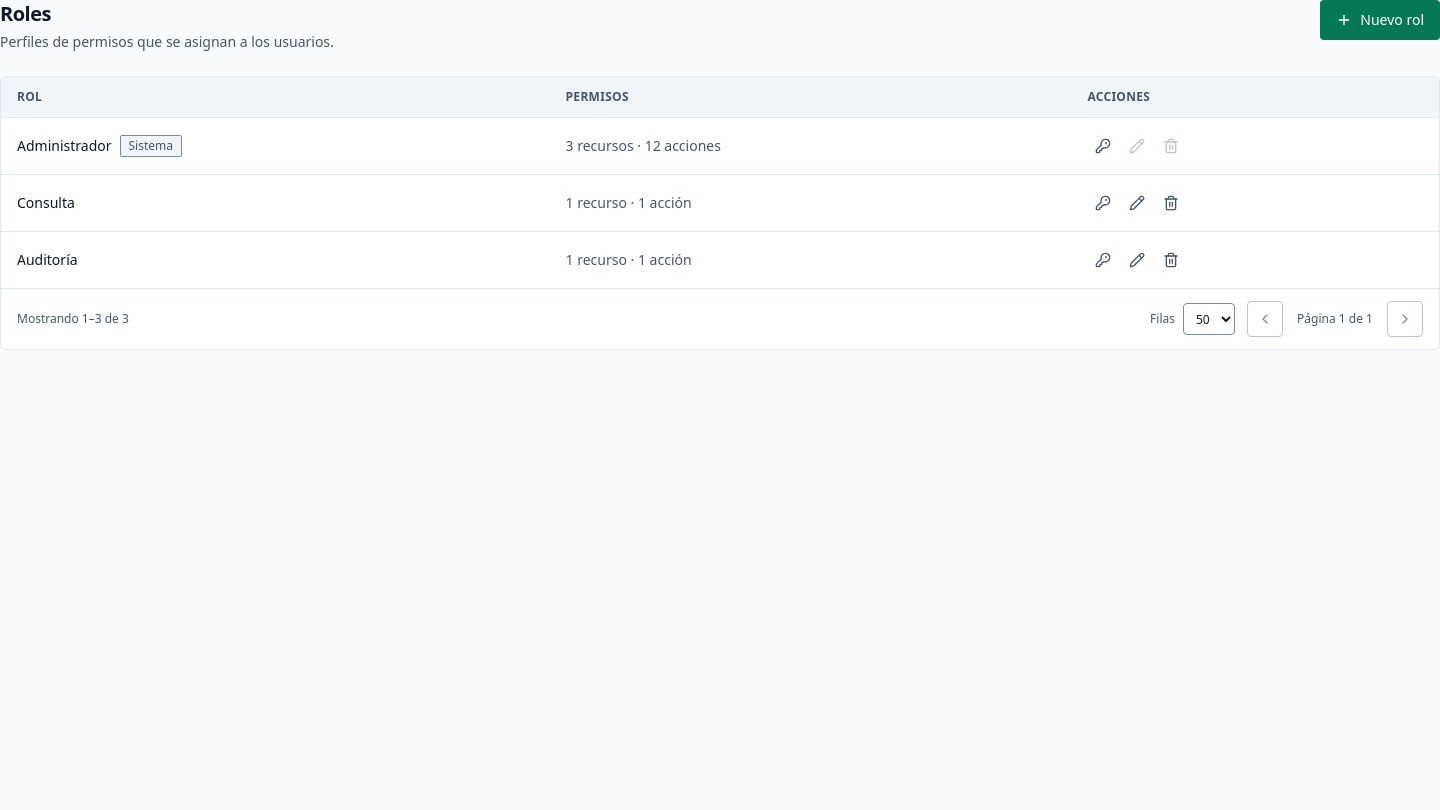
RolesPage › guarda los permisos y los conserva al volver a abrir el editor
Expected: the cell "Consulta" is shown, x1=1 y1=174 x2=550 y2=232
Step 1. Click the button named "Ver permisos de Consulta" → point(1103, 203), box x1=1087 y1=187 x2=1119 y2=219
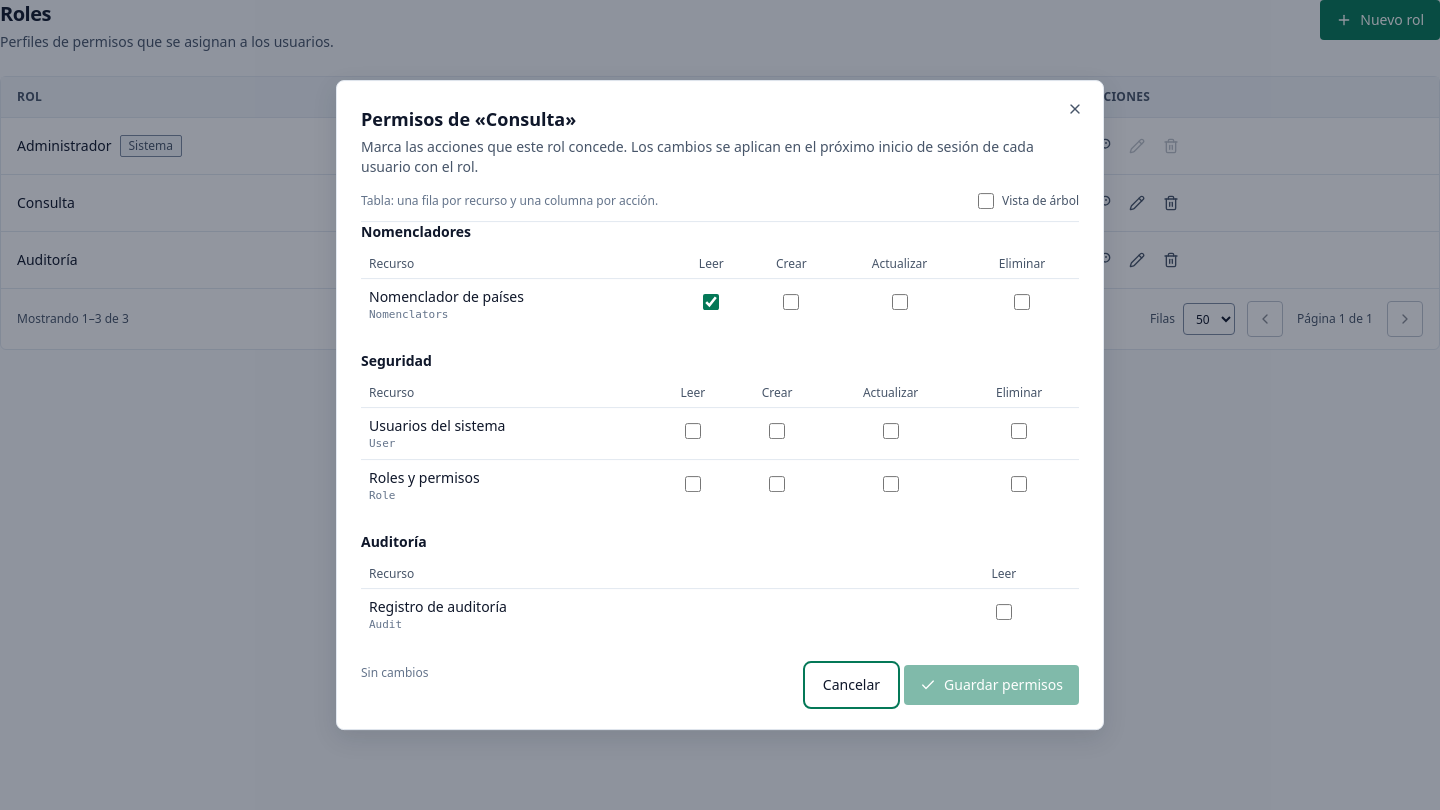
Step 2. Click the checkbox named "Crear en Nomenclador de países" → point(791, 302), box x1=783 y1=294 x2=799 y2=310
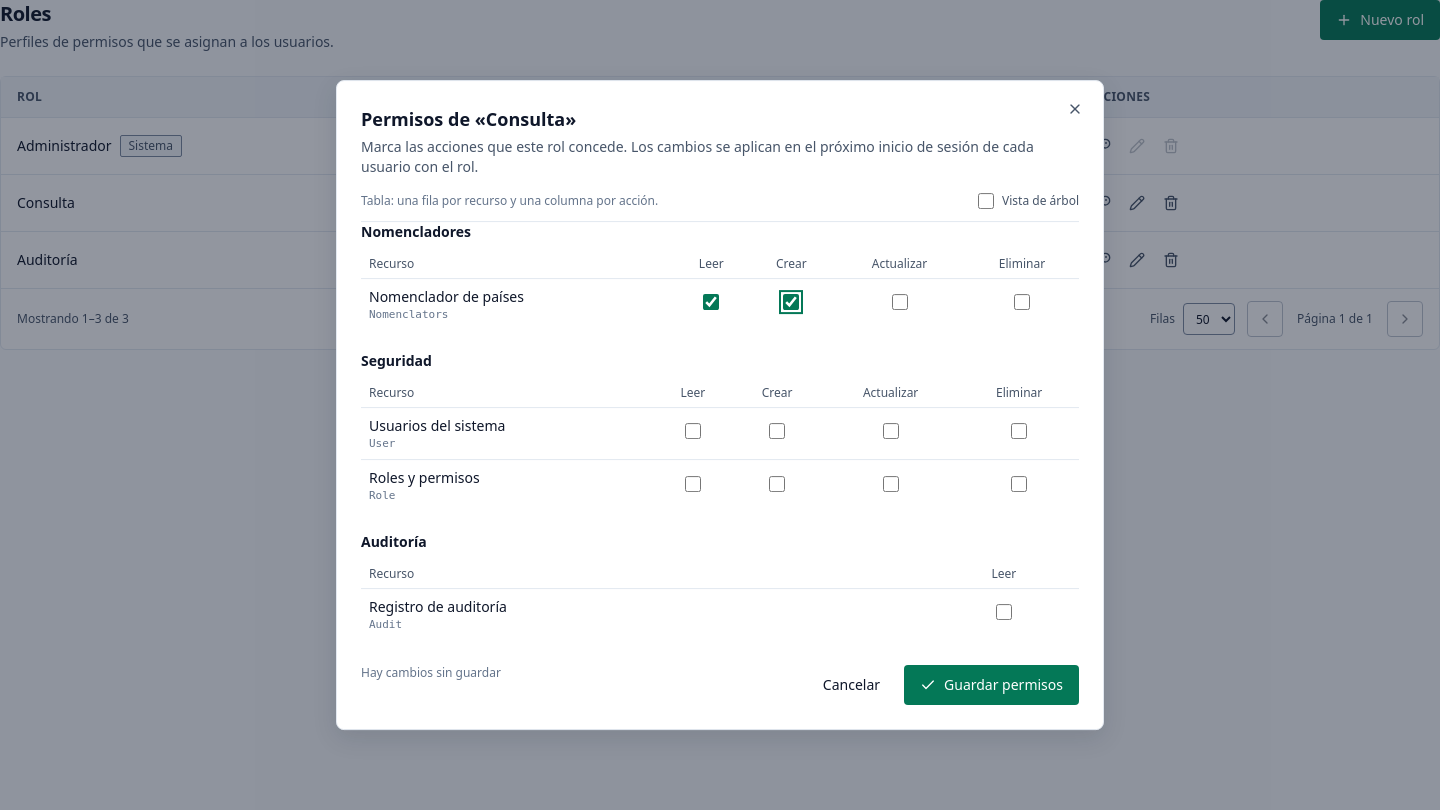
Step 3. Click the button "Guardar permisos" → point(992, 685), box x1=904 y1=665 x2=1079 y2=705
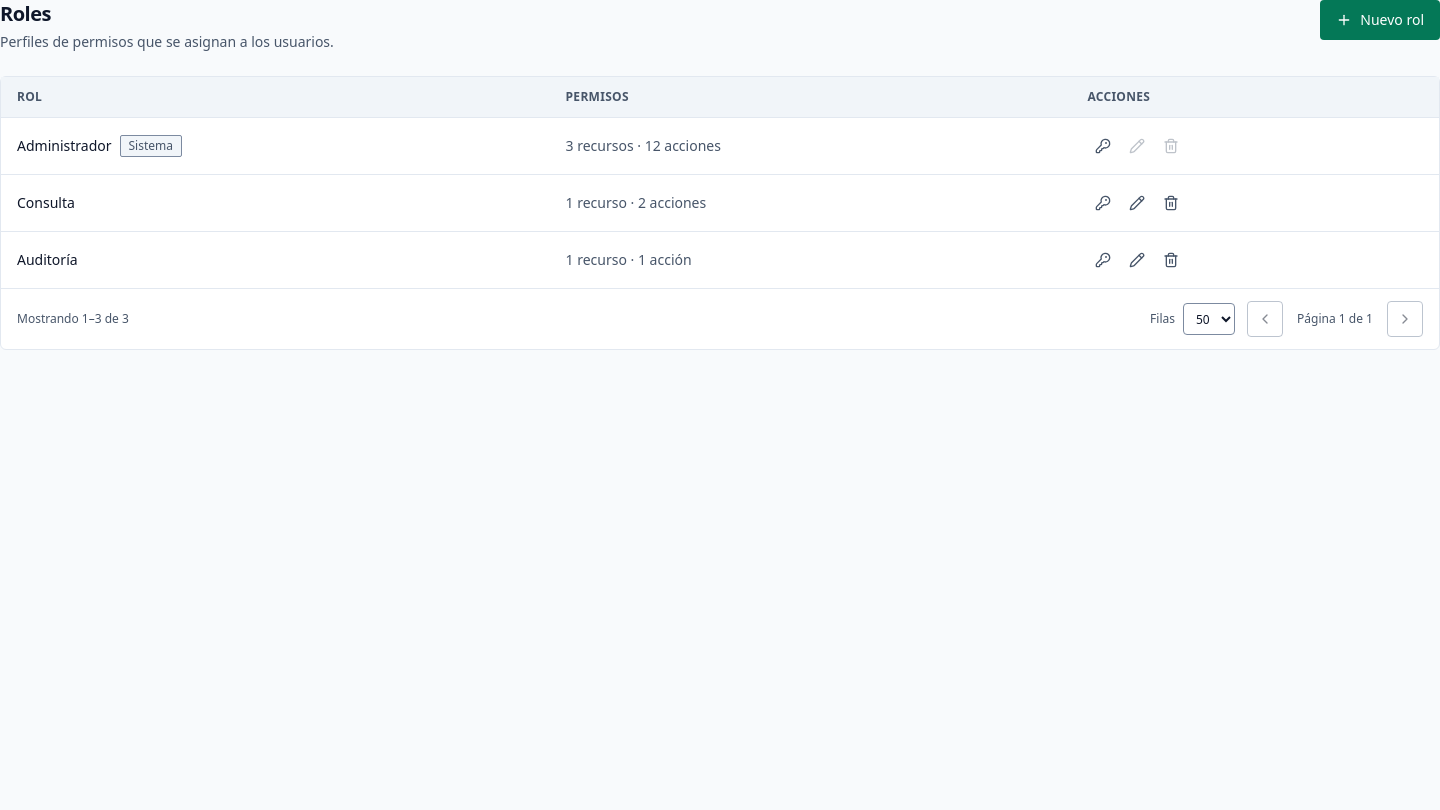
Now the dialog is gone
// Ida y vuelta real: se relee del servidor, no del estado local.
Step 4. Click the button named "Ver permisos de Consulta" → point(1103, 203), box x1=1087 y1=187 x2=1119 y2=219
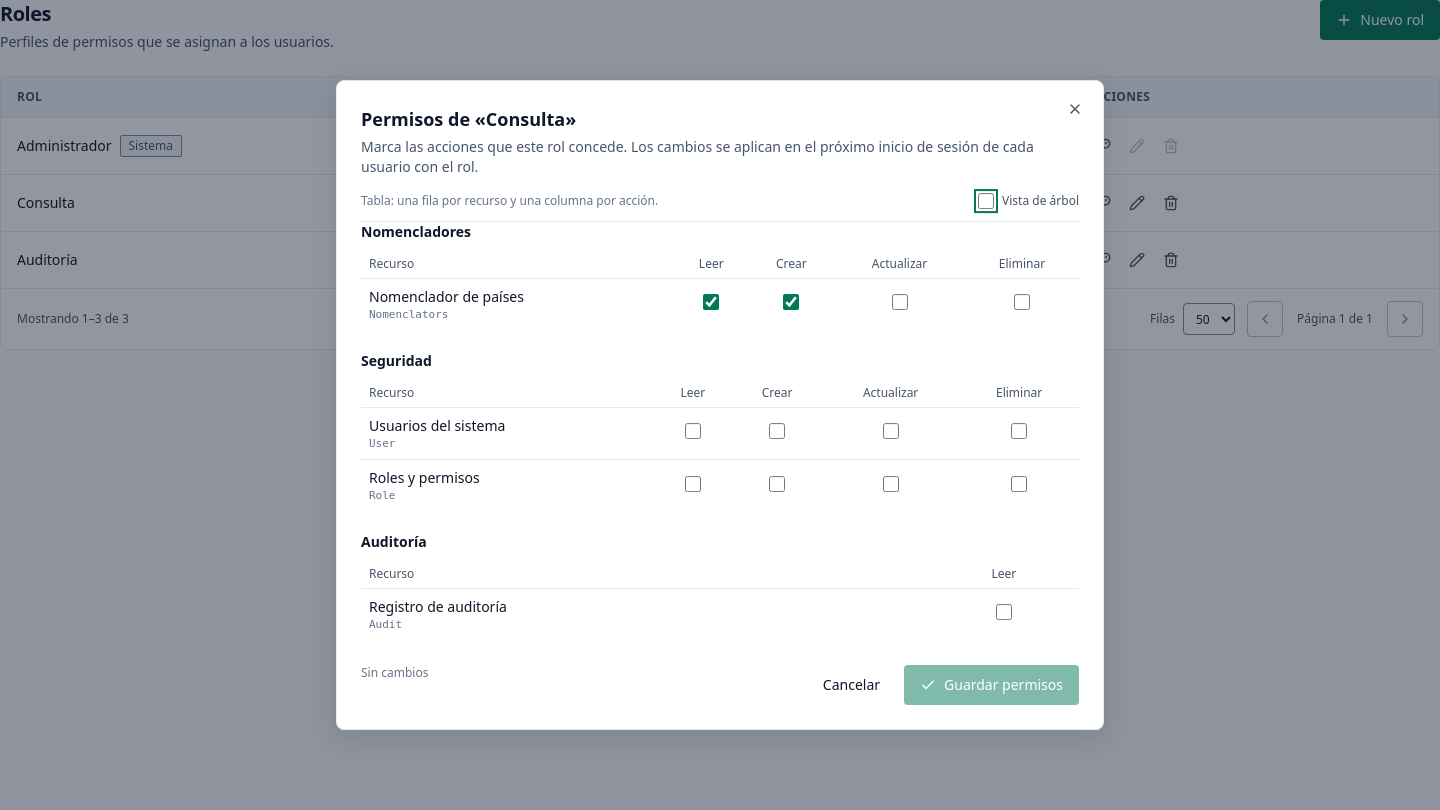
Now the text "1 recurso · 2 acciones" is shown, box x1=566 y1=193 x2=706 y2=212
Now the checkbox named "Crear en Nomenclador de países" is checked, box x1=783 y1=294 x2=799 y2=310
